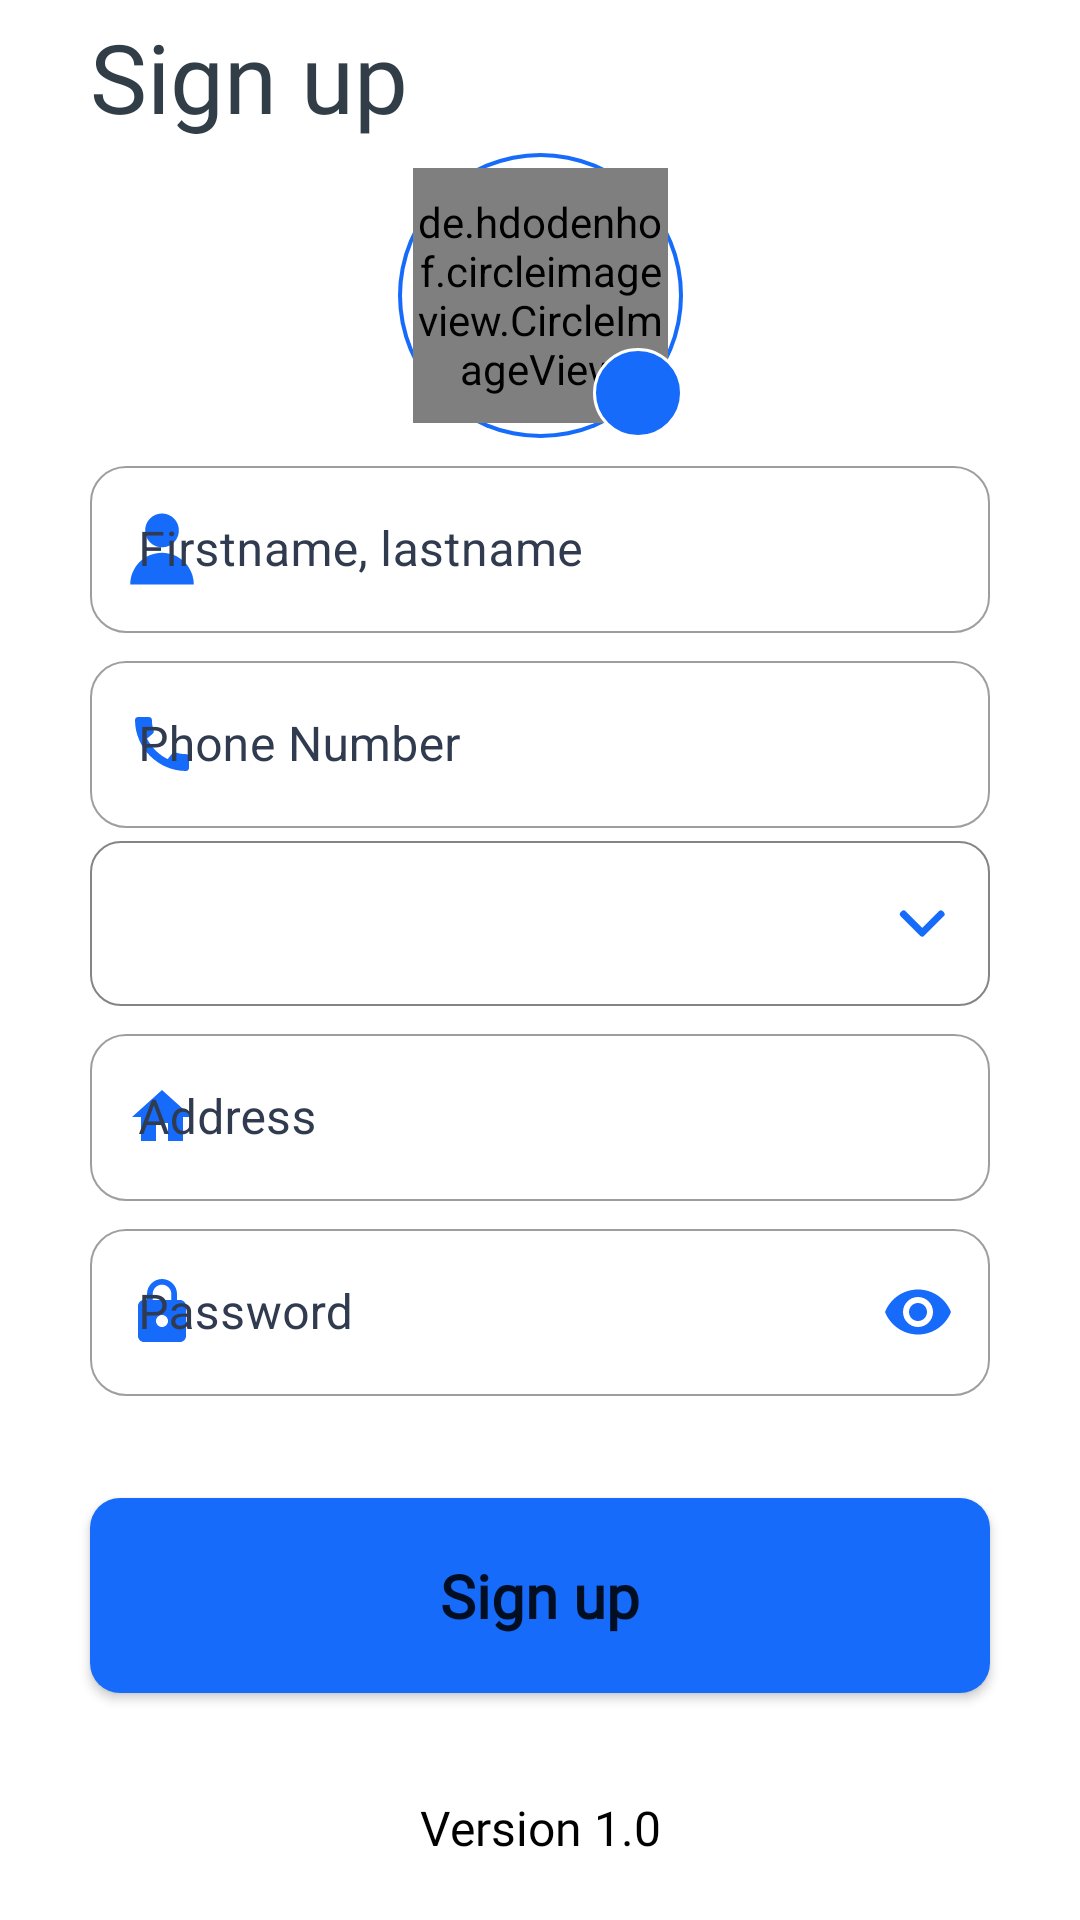

Named icons in this screenshot (1080w x 1920h) and their bounding boxes, (x1, y1, x2, y2):
arrow down: (899, 910, 945, 937)
